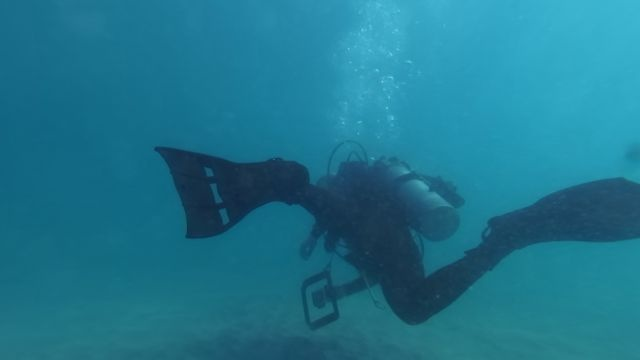Diver: (141, 96, 639, 331)
